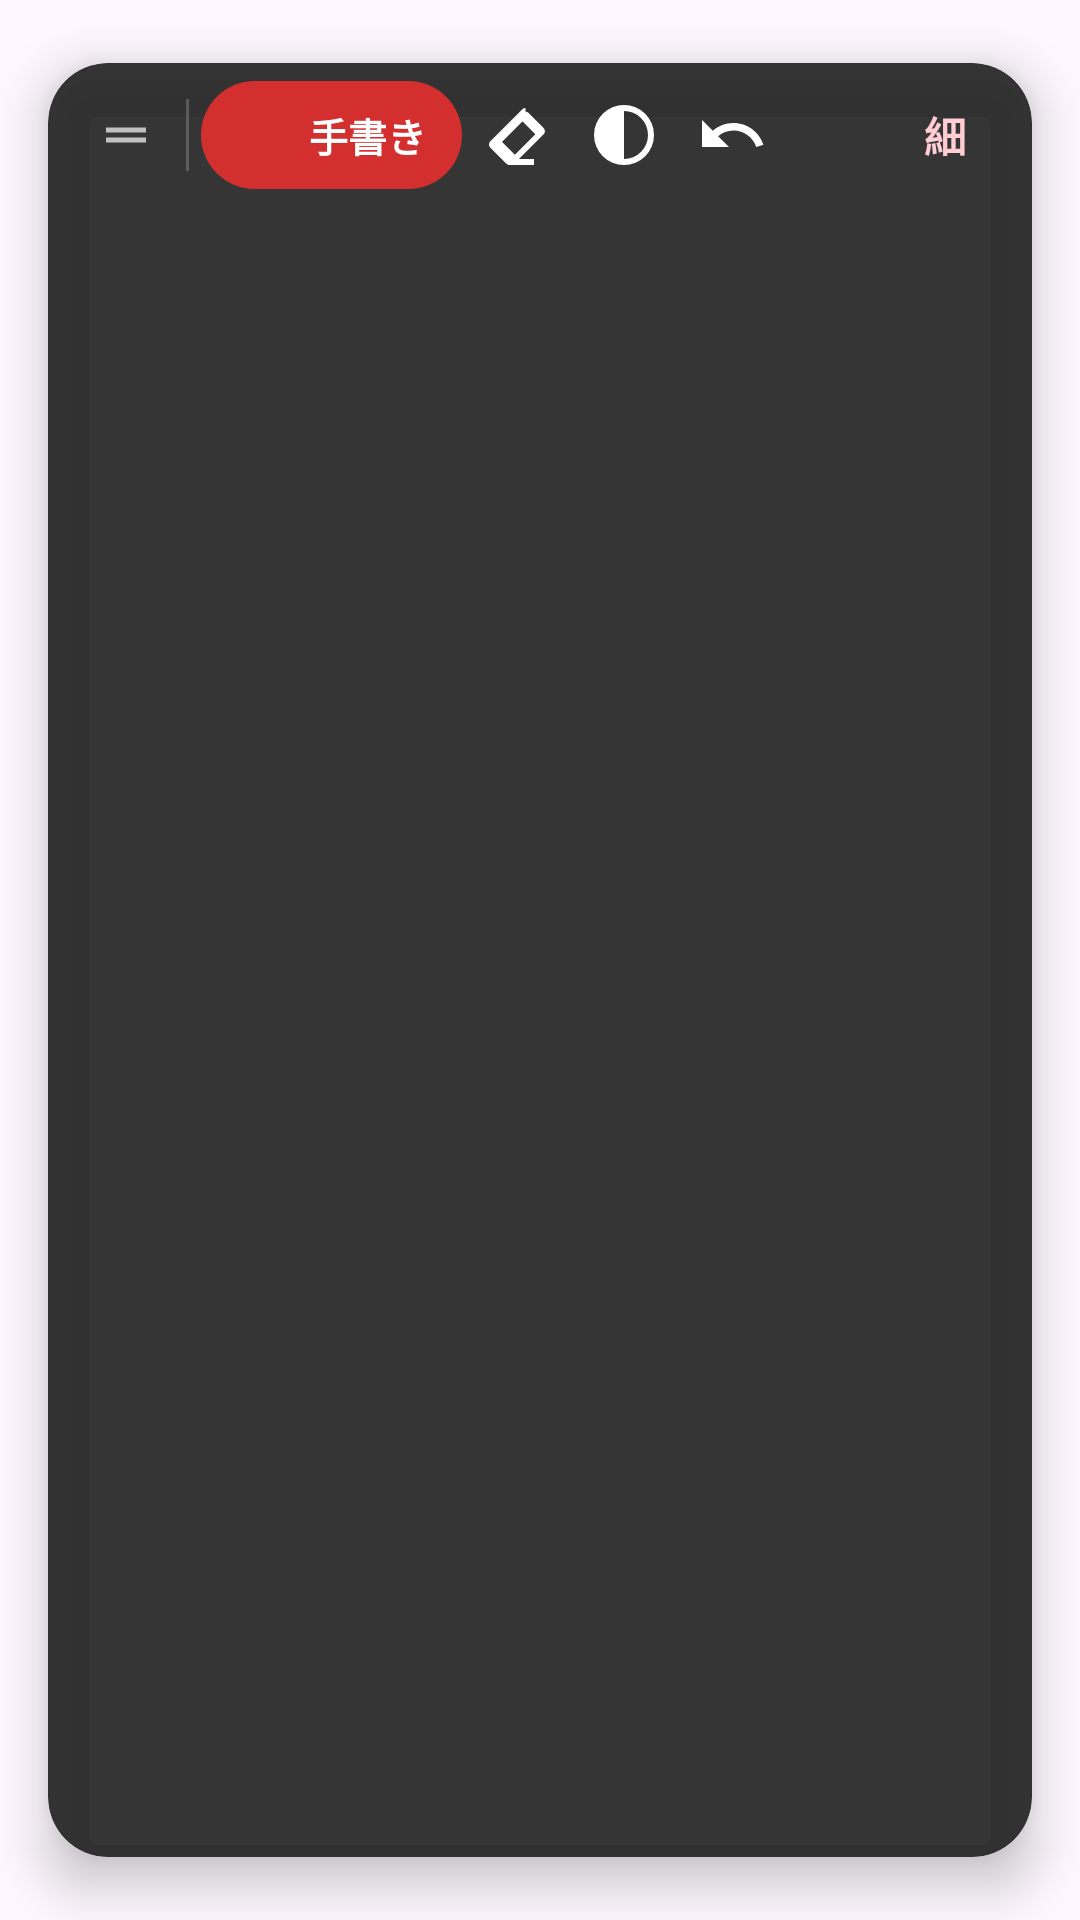

Where to tap for icons on this 1080*1920 app screen, as [x,y]:
ドラッグハンドル: [126,135]
元に戻す: [733,133]
消しゴム: [517,136]
